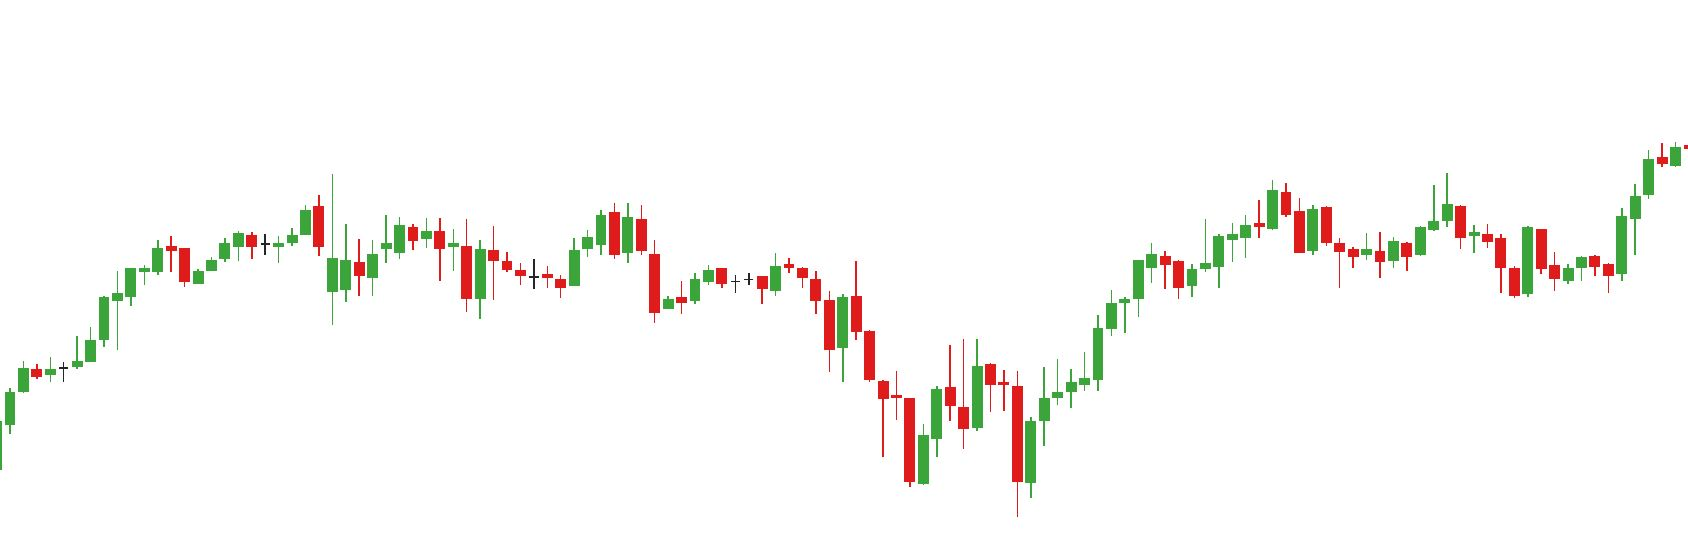buy: (901, 378, 1039, 522), (1333, 226, 1533, 301)
sell: (458, 200, 623, 287)
